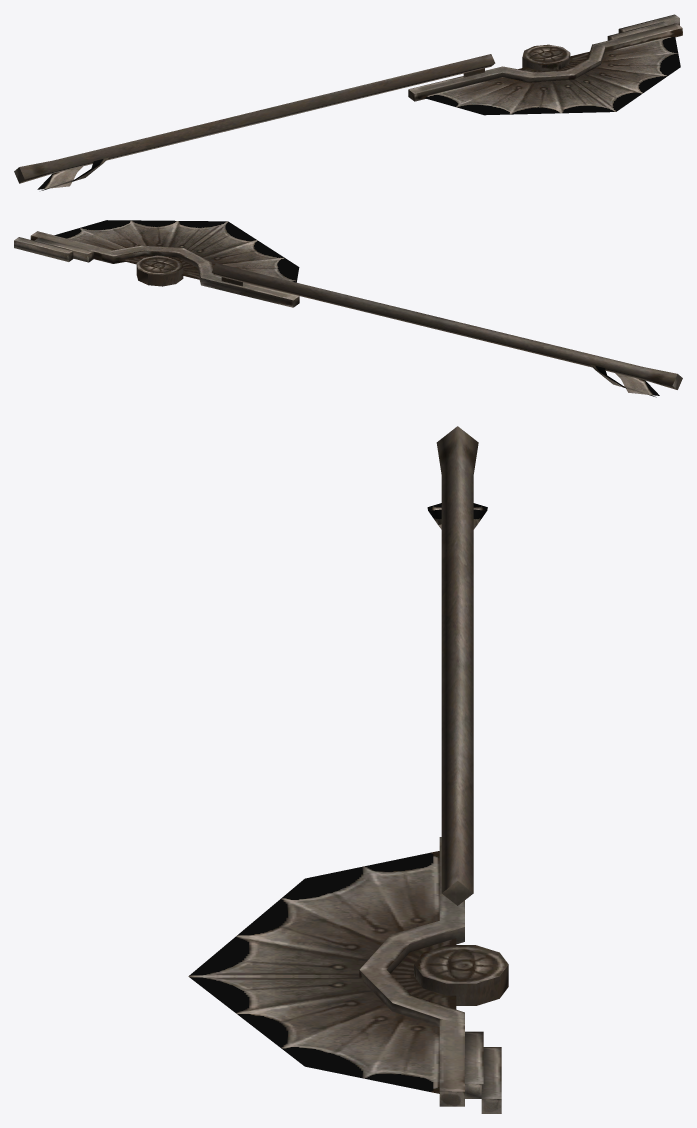
3 views of the same model, one above another, from view 1: azimuth 30°, elevation 25°; view 2: azimuth 150°, elevation 25°; view 3: azimuth 270°, elevation 25° (orthographic). The views are drawn at different scales.
Visible parts, largest first — view 1: model_7bcd70be995e5f26fe; view 2: model_7bcd70be995e5f26fe; view 3: model_7bcd70be995e5f26fe.
Part boxes in pixels (left/top/right/bottom): model_7bcd70be995e5f26fe: left=14, top=14, right=682, bottom=190; model_7bcd70be995e5f26fe: left=14, top=220, right=682, bottom=397; model_7bcd70be995e5f26fe: left=188, top=426, right=508, bottom=1113.
Bounding box in the file's own units: 3.25 × 0.134 × 0.6905.
1 material, 1 textured.
